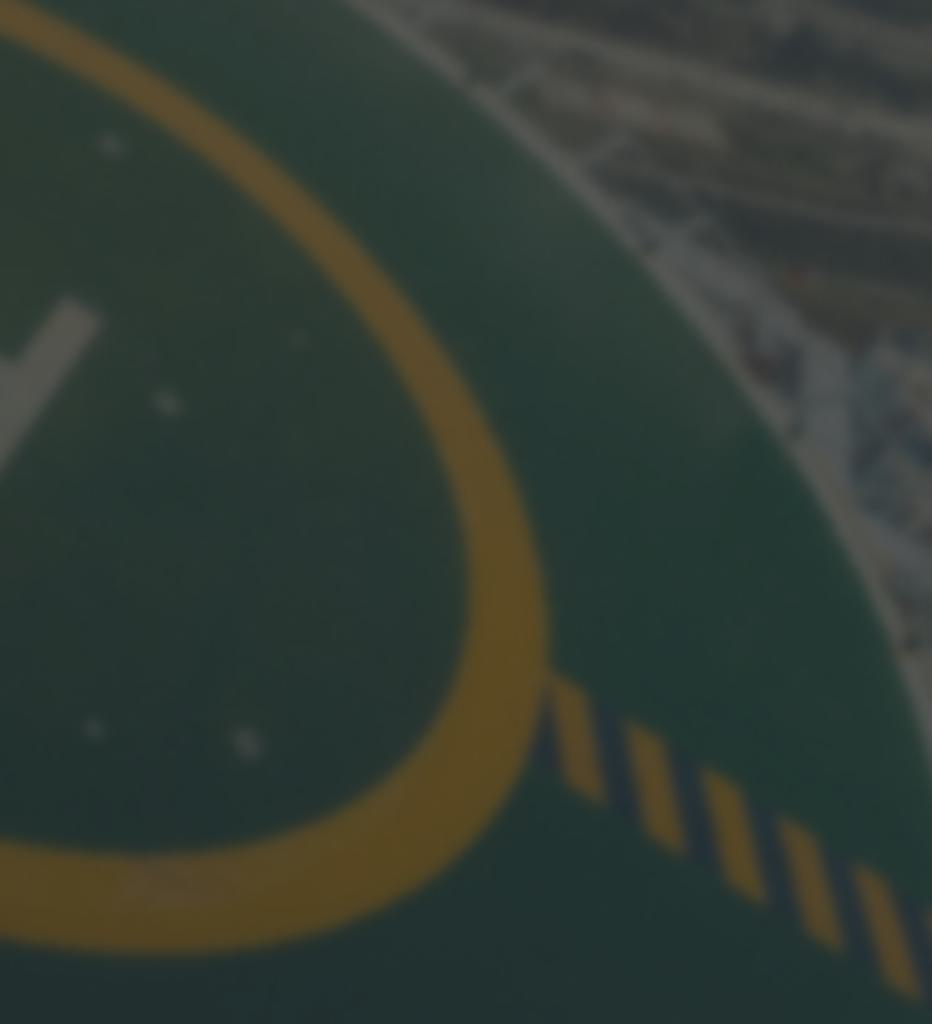Apron: (1, 1, 569, 945)
